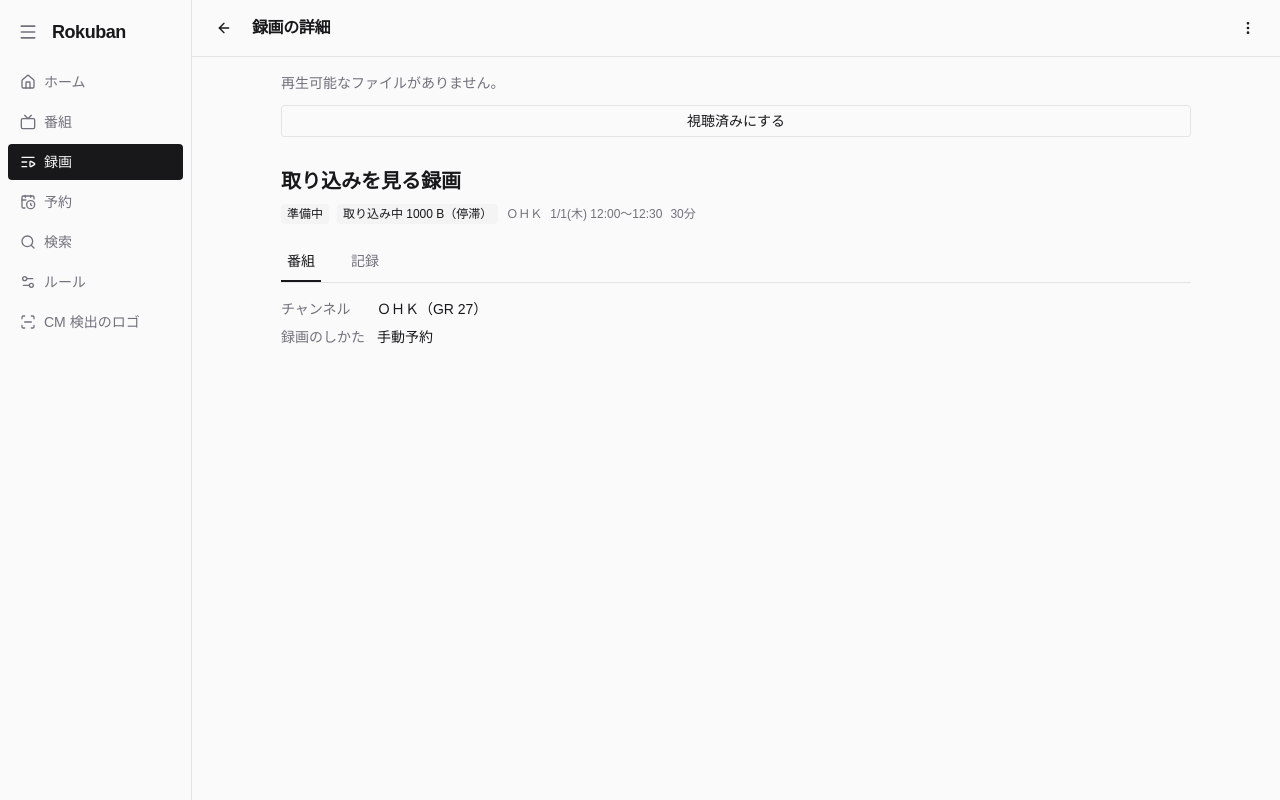
Scenario: 取り込み進捗の表示 › 進捗が古いままなら停滞と言う
Expected: the heading "取り込みを見る録画" is shown, [281,170,461,192]
Click the button with aria-label "取り込み状態を記録タブで見る".
click(418, 214)  # box [337,202,498,226]
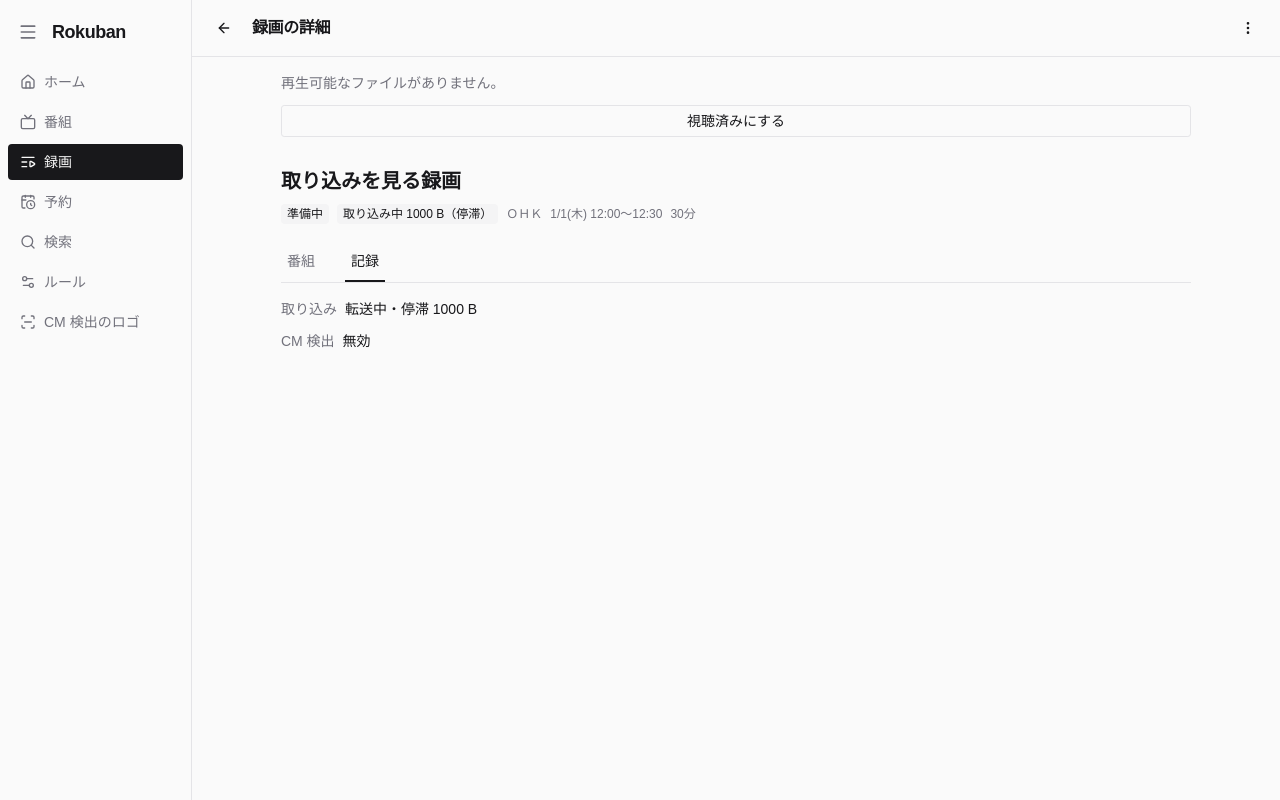
Expected: the text "転送中・停滞 1000 B" is shown, [345,299,477,319]
